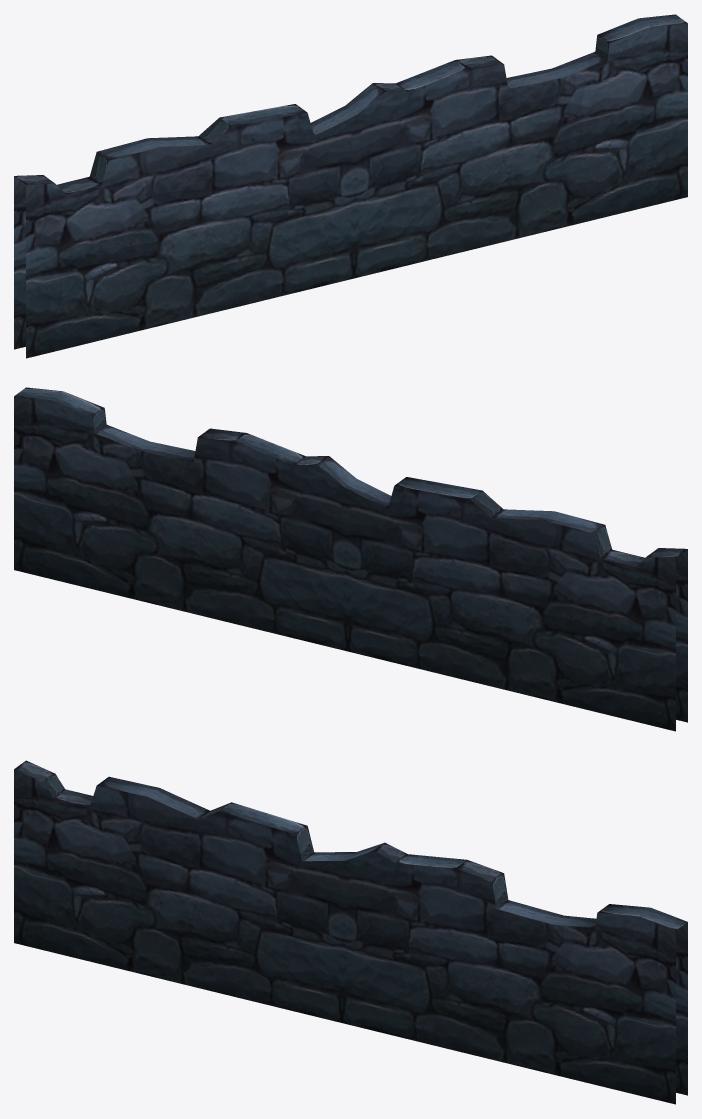
The model's file is LowWall_A.fbx.
3 views of the same model, one above another, from view 1: azimuth 30°, elevation 25°; view 2: azimuth 150°, elevation 25°; view 3: azimuth 330°, elevation 25° (orthographic).
Parts seen in each view (by area): view 1: LowWall_A; view 2: LowWall_A; view 3: LowWall_A.
Boxes of the visible parts, x1,y1,x2,y2 form: LowWall_A: (14, 14, 687, 358); LowWall_A: (14, 387, 687, 731); LowWall_A: (14, 760, 687, 1104).
Bounding box in the file's own units: 242 × 63.67 × 7.71.
1 material, 1 textured.
